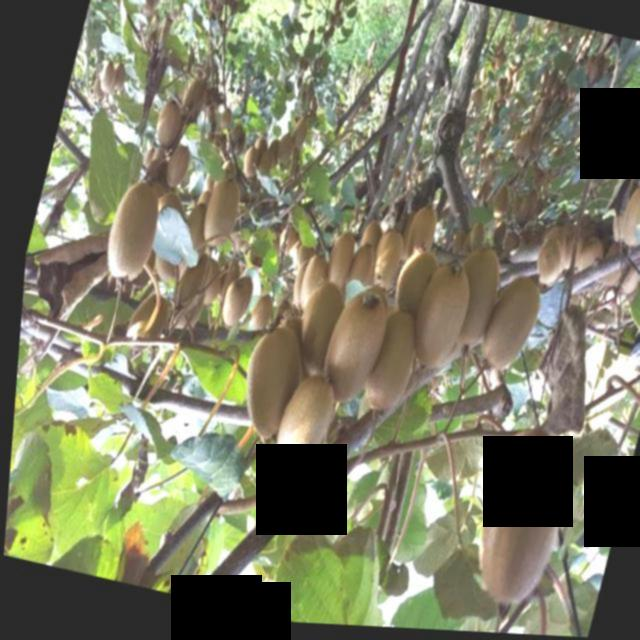kiwi: (465, 421, 582, 617), (230, 322, 313, 453), (312, 289, 392, 422), (402, 263, 475, 383), (94, 182, 165, 301), (474, 273, 545, 387), (358, 309, 427, 424), (270, 376, 342, 486), (439, 250, 504, 364), (284, 283, 345, 390), (194, 182, 241, 262), (119, 299, 170, 367), (162, 276, 209, 349), (363, 228, 407, 302), (336, 245, 376, 314), (318, 233, 355, 299), (401, 209, 437, 267), (612, 185, 640, 258), (215, 283, 250, 339), (147, 104, 180, 157), (527, 243, 563, 291), (158, 153, 188, 200), (246, 300, 271, 340)
